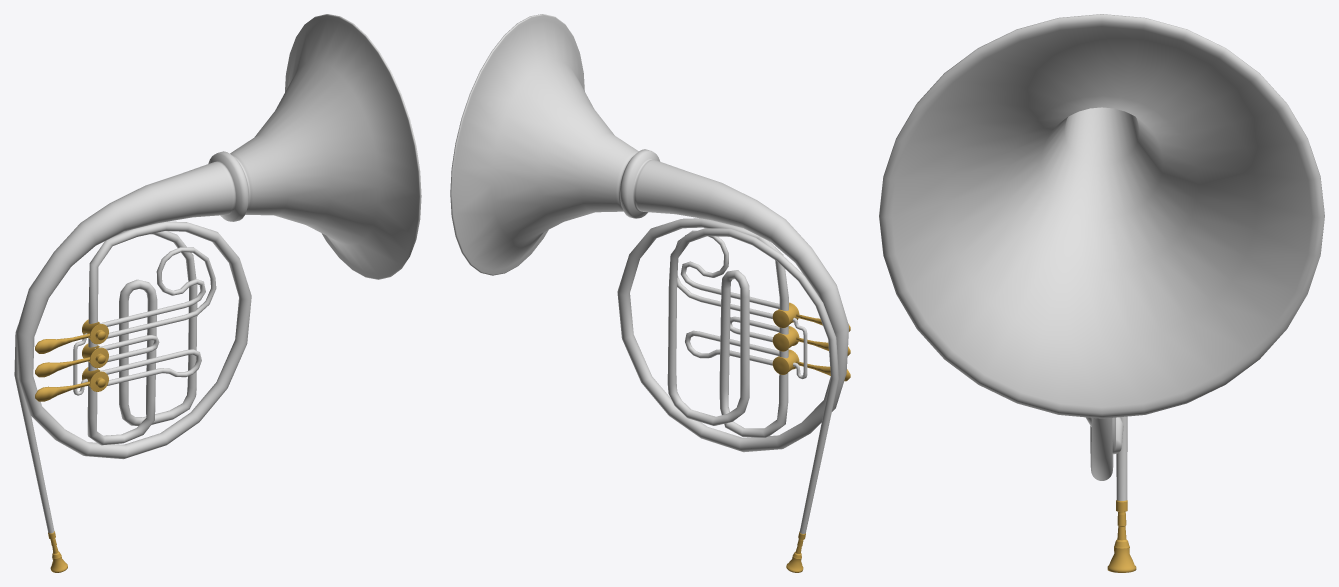
The model's file is frenchhorn.glb.
3 renders of one model, left to right at view 1: azimuth 30°, elevation 25°; view 2: azimuth 150°, elevation 25°; view 3: azimuth 270°, elevation 25°, orthographic. The views are drawn at different scales.
Visible parts, largest first — view 1: French_Horn; view 2: French_Horn; view 3: French_Horn.
Part boxes in pixels (<box>): French_Horn: <box>14,14,421,572</box>; French_Horn: <box>450,14,850,572</box>; French_Horn: <box>879,14,1324,572</box>.
Size of the model in its own units: 4.98 by 6.8 by 3.49.
